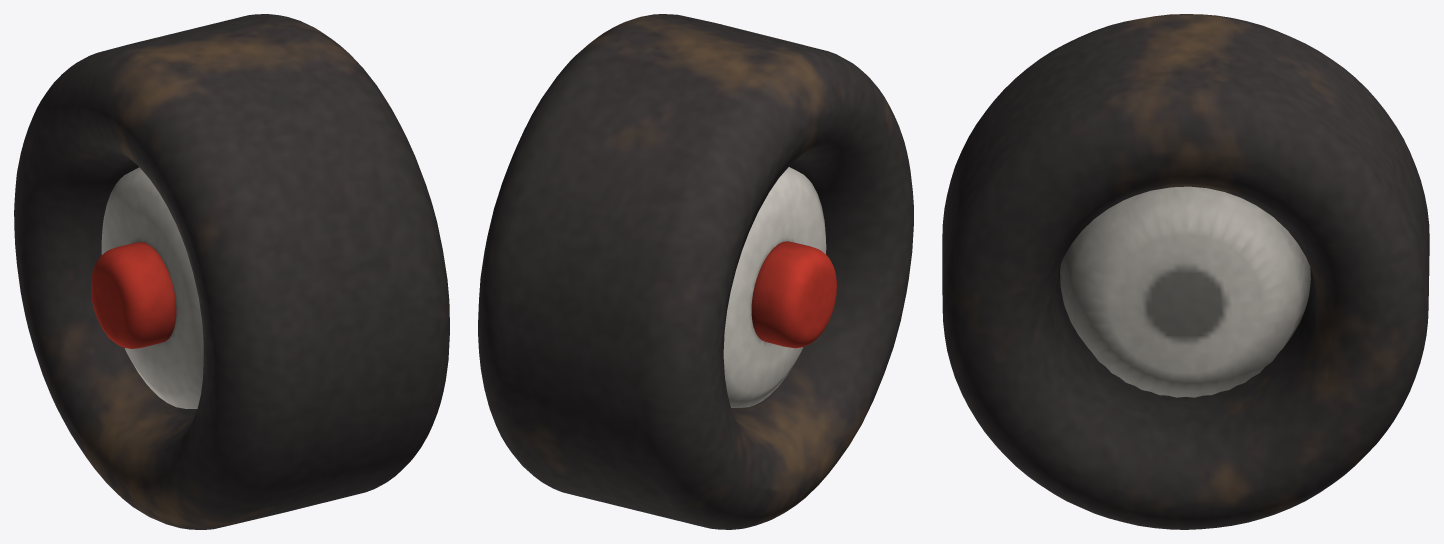
The picture shows the model from 3 angles, left to right: view 1: azimuth 30°, elevation 25°; view 2: azimuth 150°, elevation 25°; view 3: azimuth 270°, elevation 25°; orthographic projection.
Parts seen in each view (by area): view 1: wheel_RR; view 2: wheel_RR; view 3: wheel_RR.
Part boxes in pixels (box(x1,y1,x2,y2)): wheel_RR: box(14, 14, 449, 529); wheel_RR: box(478, 14, 913, 529); wheel_RR: box(942, 14, 1429, 529).
Bounding box in the file's own units: 0.1449 × 0.2596 × 0.2595.
Materials: 1 (1 with a texture image).
